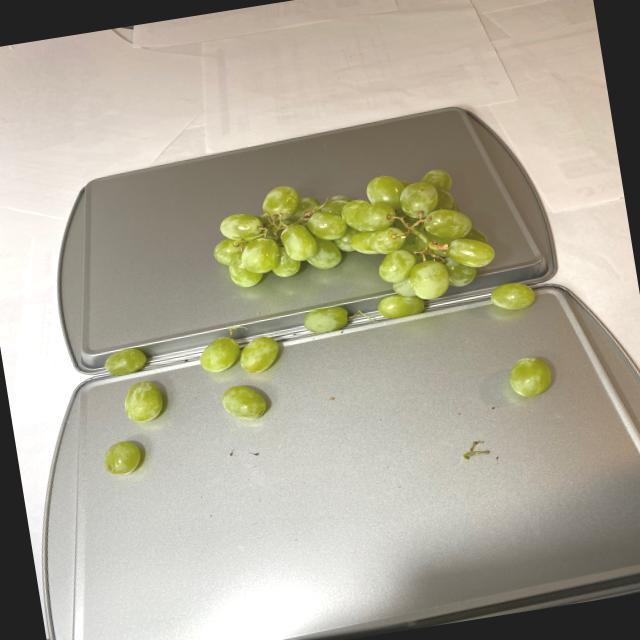grapes: (67, 154, 550, 478)
